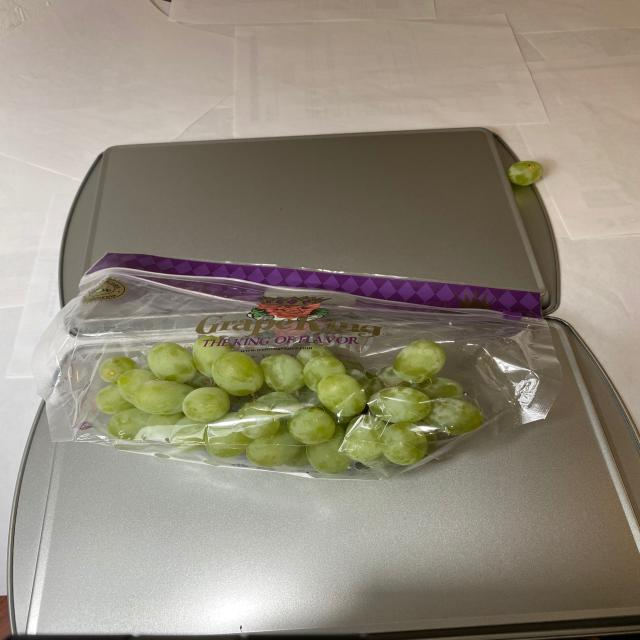grapes: (78, 338, 496, 473)
